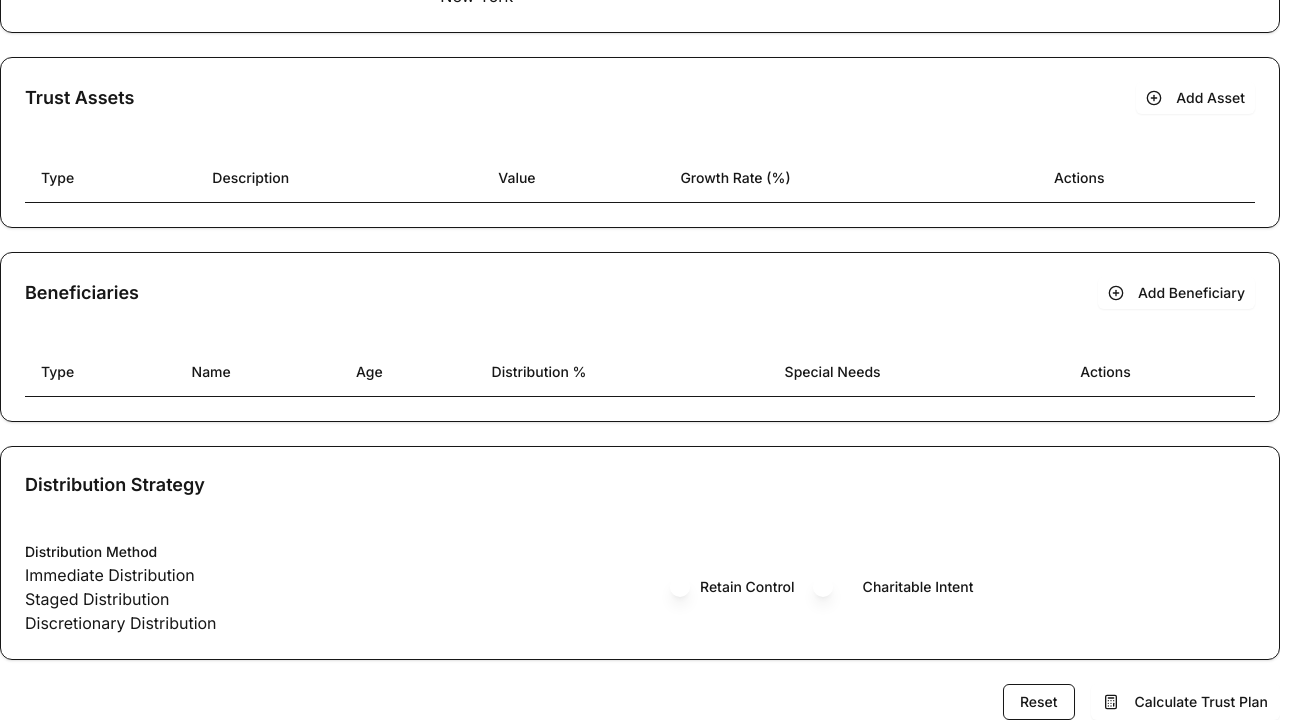
TrustPlanningCalculator › validates required fields before calculation
(page scrolled)
Note: Try to calculate without any inputs
Click the button "Calculate Trust Plan" at [1185, 702], box x1=1091 y1=684 x2=1280 y2=719
(page scrolled)
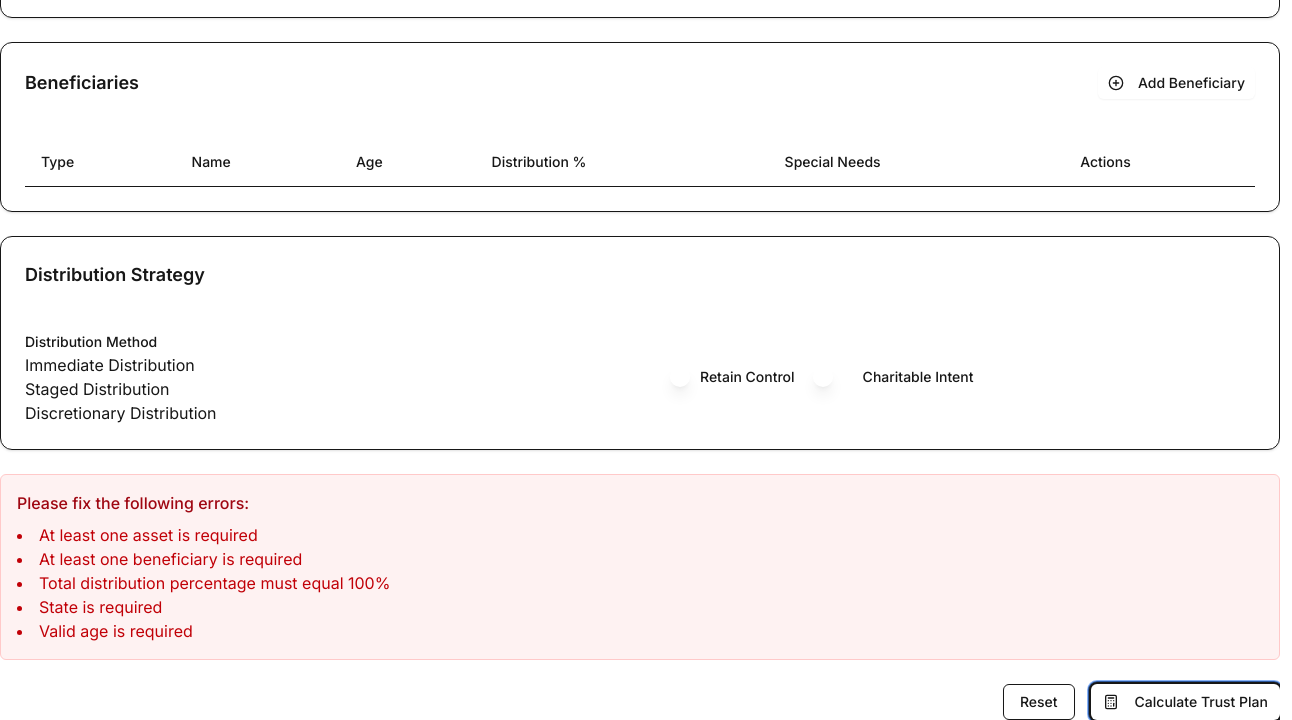
Result: the list item "At least one asset is required" is shown at x1=39 y1=525 x2=258 y2=545
